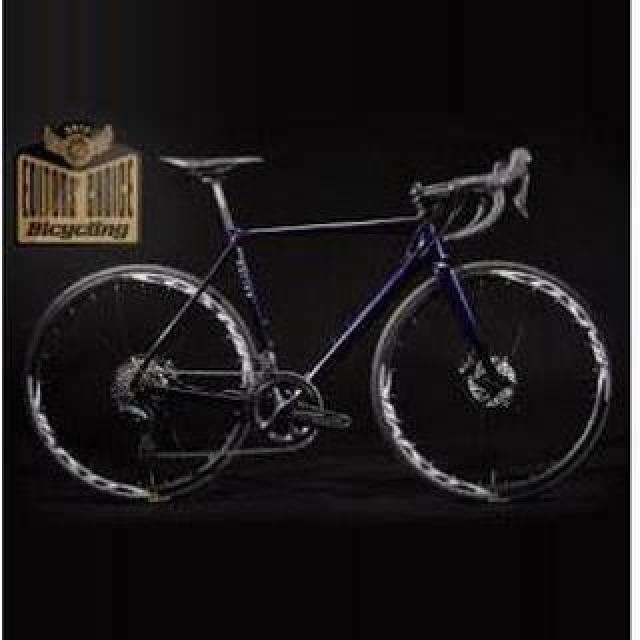Person: (17, 127, 609, 487)
